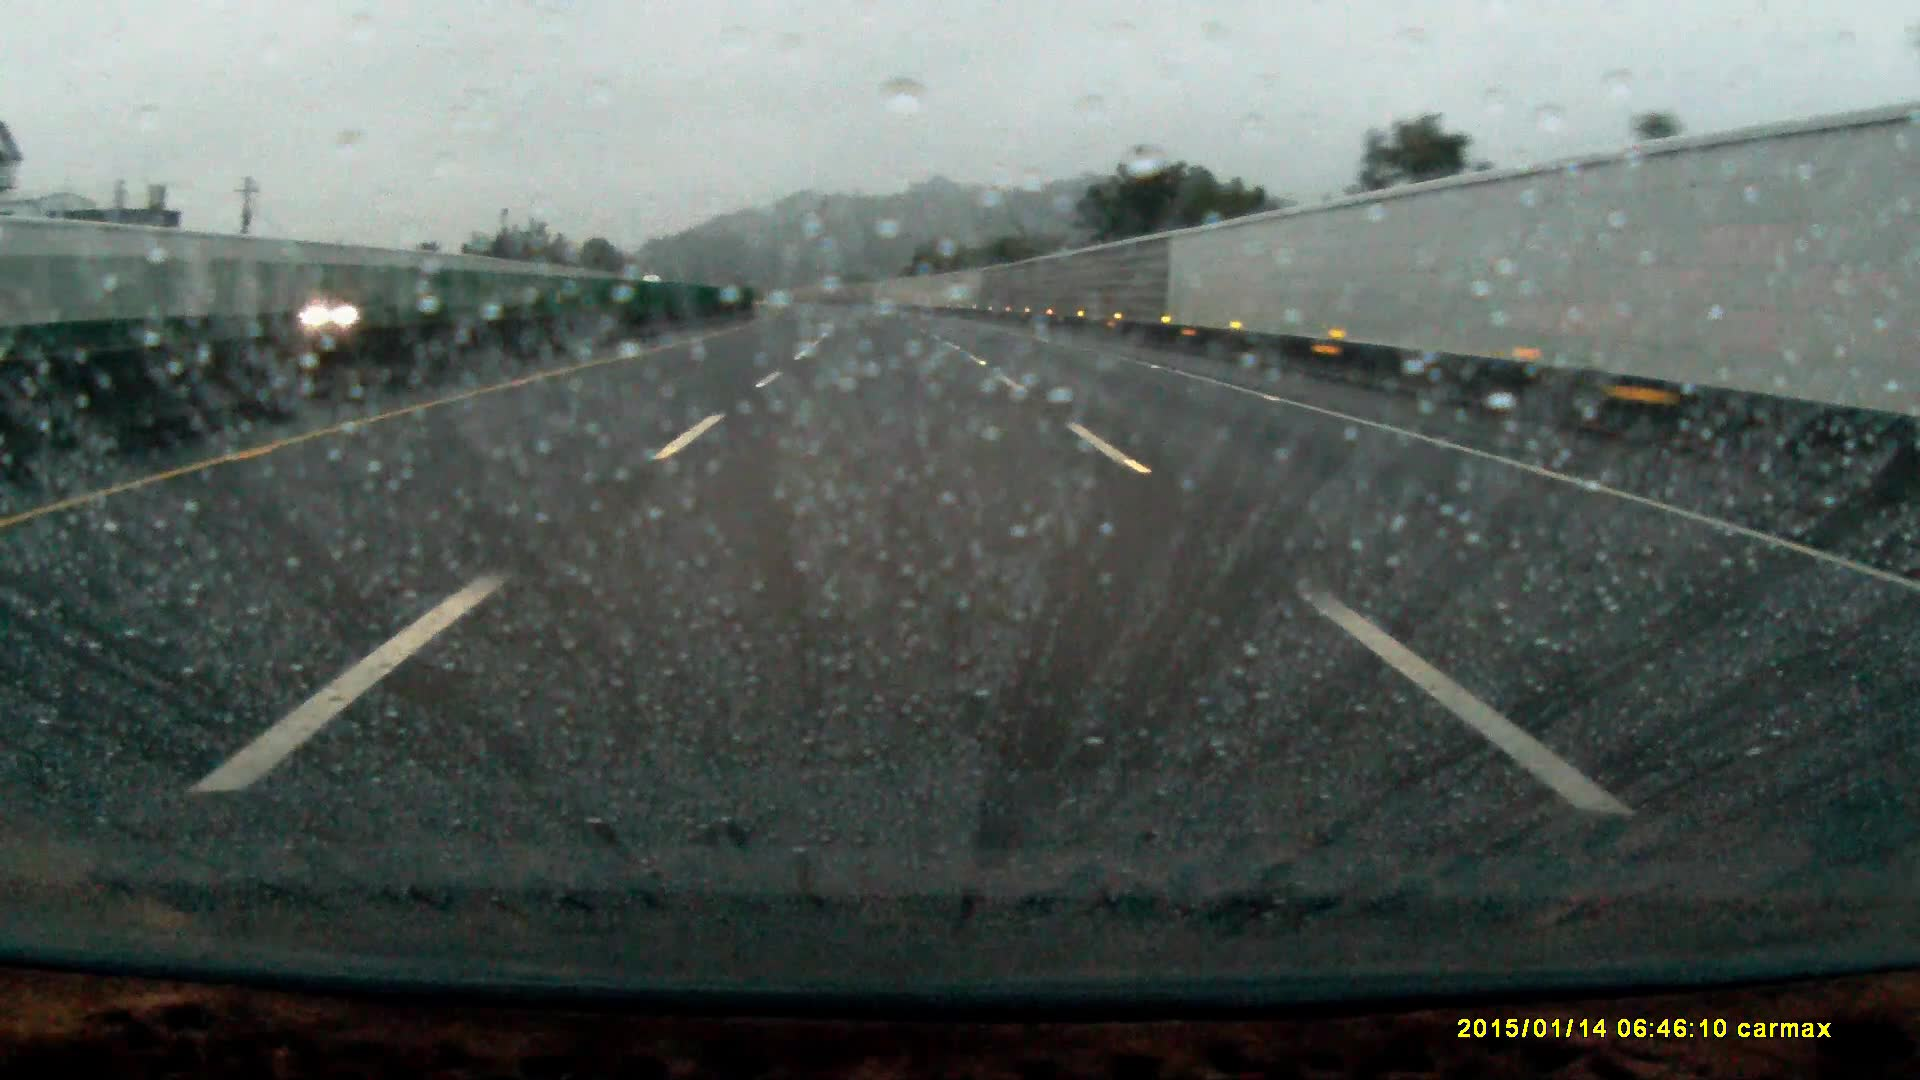vehicle: (301, 293, 373, 326)
